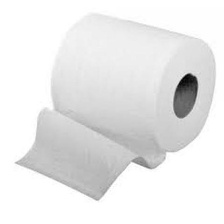tissue: (10, 7, 221, 206)
